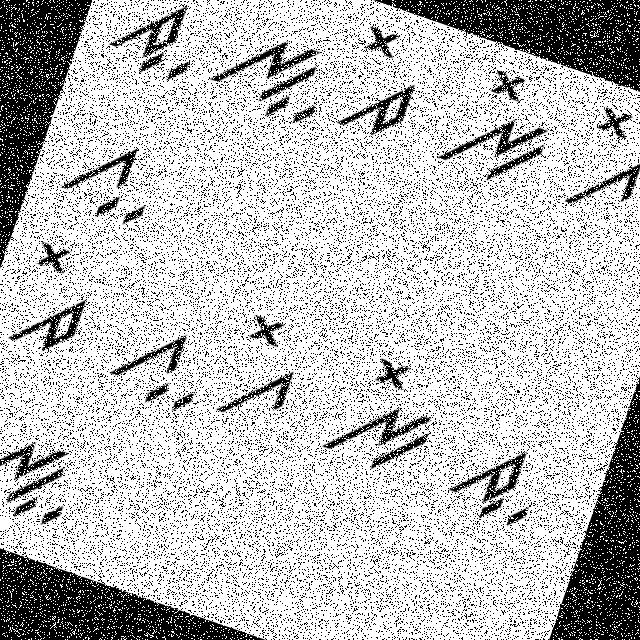gah: (46, 111, 178, 238), (94, 304, 216, 428)
go: (206, 301, 323, 444), (557, 95, 639, 228)
ngah: (198, 6, 346, 138), (0, 411, 98, 546)
ngo: (306, 328, 462, 490), (430, 50, 572, 203)
tah: (434, 422, 552, 542), (92, 0, 221, 102)
to: (0, 229, 113, 370), (329, 19, 438, 154)
